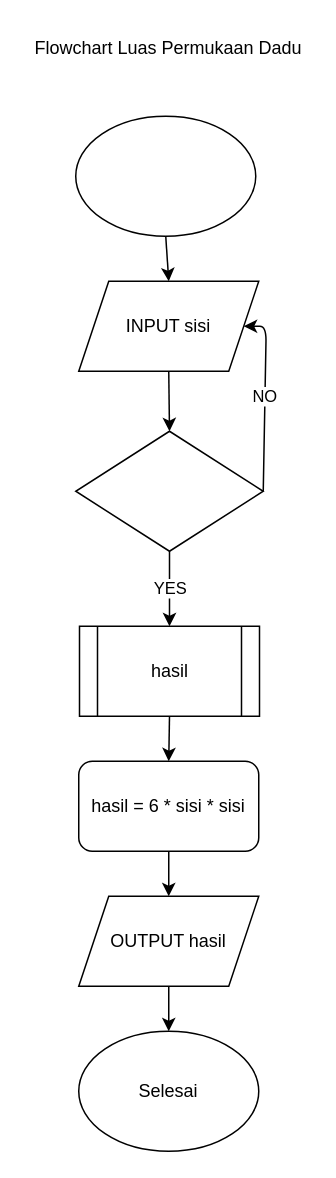
Image size: 336x1178. Some labels were removed from this diagram. Each missing label, with the centre of its shape:
MULAI: the point at 165,175
sisi === NUMBER: the point at 168,490
